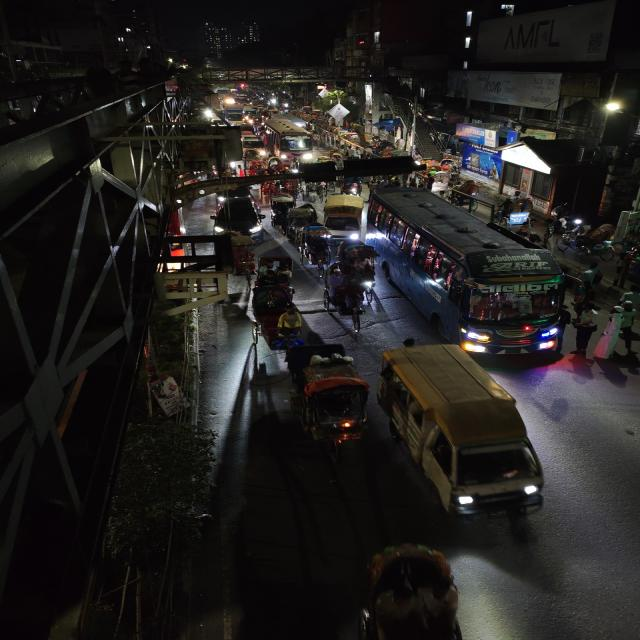bus: (371, 187, 570, 355), (265, 121, 318, 162)
car: (213, 198, 265, 238)
human_hauler: (380, 345, 552, 527), (322, 195, 368, 239)
pedestrian: (572, 307, 599, 355), (615, 310, 640, 360), (581, 262, 606, 294)
rickshaw: (286, 344, 371, 459), (249, 305, 305, 361), (319, 266, 368, 322), (339, 241, 381, 297), (255, 248, 296, 288), (297, 230, 334, 270), (283, 204, 318, 232)
truck: (220, 106, 247, 125)
